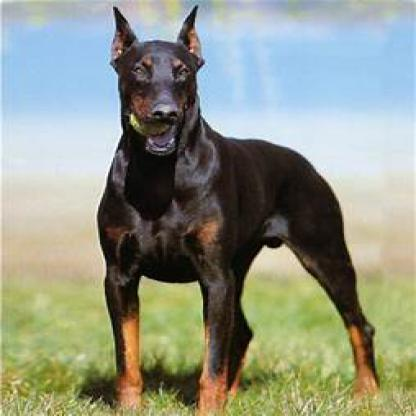dog: (100, 6, 383, 410)
